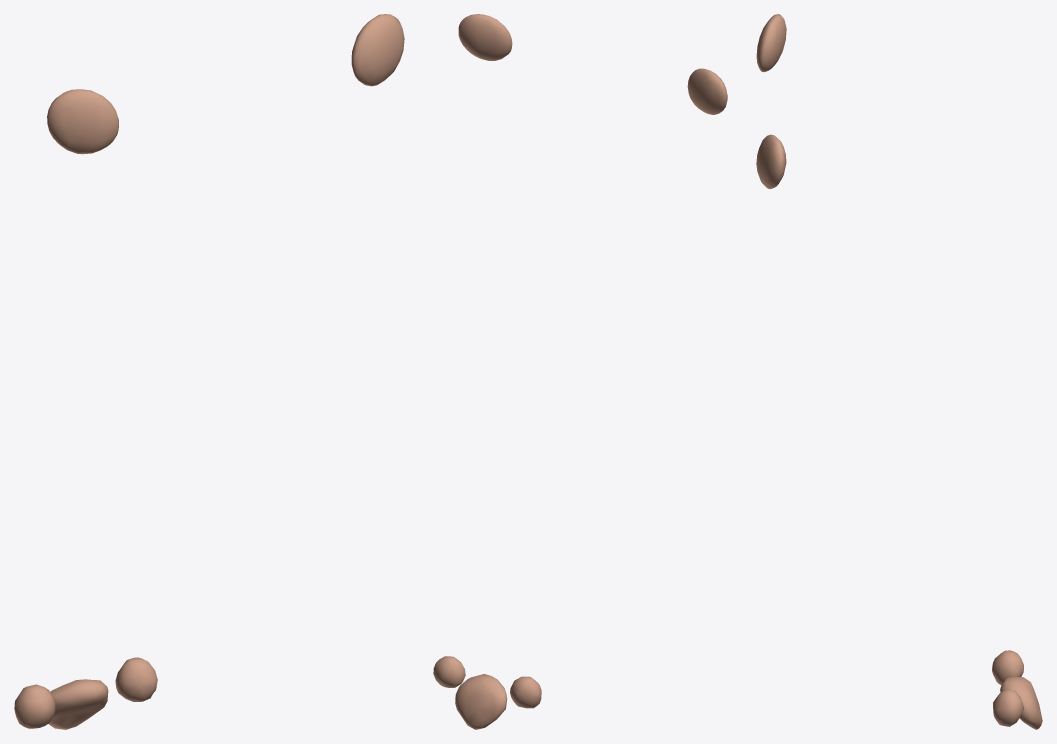
Rendered from pediatric_child_10y_female.reproductive.LOD1.glb.
The picture shows the model from 3 angles, left to right: view 1: azimuth 30°, elevation 25°; view 2: azimuth 150°, elevation 25°; view 3: azimuth 270°, elevation 25°; orthographic projection. The views are drawn at different scales.
Visible parts, largest first — view 1: PEDIATRIC.CHILD_10Y.FEMALE.REPRODUCTIVE.BREAST_ADIPOSE_TISSU (×2), PEDIATRIC.CHILD_10Y.FEMALE.REPRODUCTIVE.UTERUS, PEDIATRIC.CHILD_10Y.FEMALE.REPRODUCTIVE.OVARY.L, PEDIATRIC.CHILD_10Y.FEMALE.REPRODUCTIVE.OVARY.R; view 2: PEDIATRIC.CHILD_10Y.FEMALE.REPRODUCTIVE.BREAST_ADIPOSE_TISSU (×2), PEDIATRIC.CHILD_10Y.FEMALE.REPRODUCTIVE.UTERUS, PEDIATRIC.CHILD_10Y.FEMALE.REPRODUCTIVE.OVARY.R, PEDIATRIC.CHILD_10Y.FEMALE.REPRODUCTIVE.OVARY.L; view 3: PEDIATRIC.CHILD_10Y.FEMALE.REPRODUCTIVE.BREAST_ADIPOSE_TISSU (×2), PEDIATRIC.CHILD_10Y.FEMALE.REPRODUCTIVE.UTERUS, PEDIATRIC.CHILD_10Y.FEMALE.REPRODUCTIVE.OVARY.L, PEDIATRIC.CHILD_10Y.FEMALE.REPRODUCTIVE.OVARY.R.
Boxes of the visible parts, x1,y1,x2,y2 form: PEDIATRIC.CHILD_10Y.FEMALE.REPRODUCTIVE.BREAST_ADIPOSE_TISSU (×2): (47, 14, 404, 154); PEDIATRIC.CHILD_10Y.FEMALE.REPRODUCTIVE.UTERUS: (48, 679, 108, 729); PEDIATRIC.CHILD_10Y.FEMALE.REPRODUCTIVE.OVARY.L: (115, 657, 157, 701); PEDIATRIC.CHILD_10Y.FEMALE.REPRODUCTIVE.OVARY.R: (14, 684, 55, 728); PEDIATRIC.CHILD_10Y.FEMALE.REPRODUCTIVE.BREAST_ADIPOSE_TISSU (×2): (458, 14, 727, 114); PEDIATRIC.CHILD_10Y.FEMALE.REPRODUCTIVE.UTERUS: (455, 674, 507, 729); PEDIATRIC.CHILD_10Y.FEMALE.REPRODUCTIVE.OVARY.R: (510, 676, 541, 708); PEDIATRIC.CHILD_10Y.FEMALE.REPRODUCTIVE.OVARY.L: (433, 656, 465, 687); PEDIATRIC.CHILD_10Y.FEMALE.REPRODUCTIVE.BREAST_ADIPOSE_TISSU (×2): (756, 14, 786, 189); PEDIATRIC.CHILD_10Y.FEMALE.REPRODUCTIVE.UTERUS: (1000, 676, 1042, 729); PEDIATRIC.CHILD_10Y.FEMALE.REPRODUCTIVE.OVARY.L: (993, 689, 1023, 726); PEDIATRIC.CHILD_10Y.FEMALE.REPRODUCTIVE.OVARY.R: (992, 650, 1023, 685).
Size of the model in its own units: 0.1491 by 0.3177 by 0.1266.
